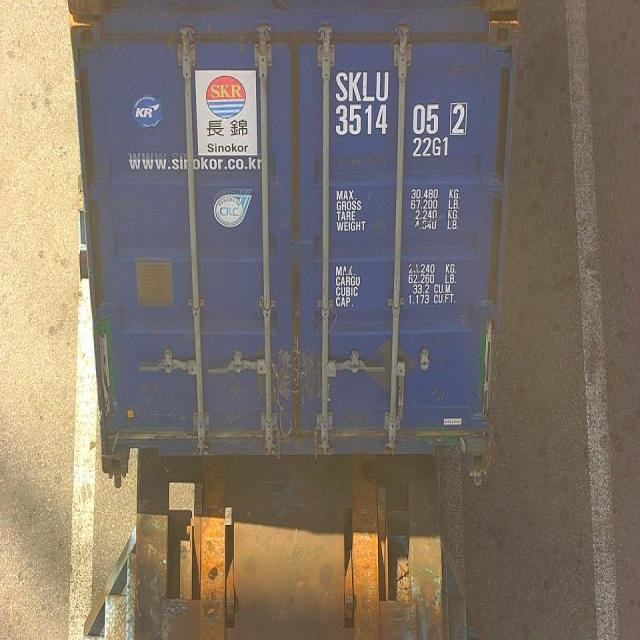ISO: (412, 138, 449, 158)
container_number: (336, 72, 468, 132)
